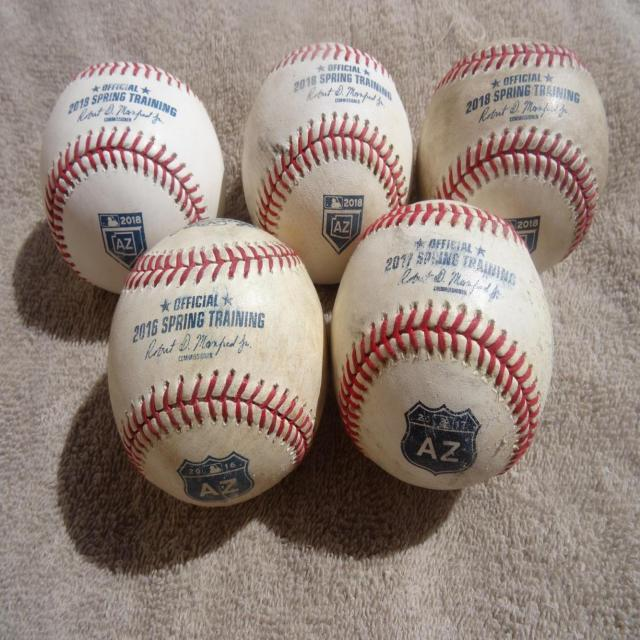baseball: (333, 200, 549, 491), (109, 215, 326, 502), (422, 34, 606, 266), (41, 60, 224, 278), (241, 41, 408, 242)
